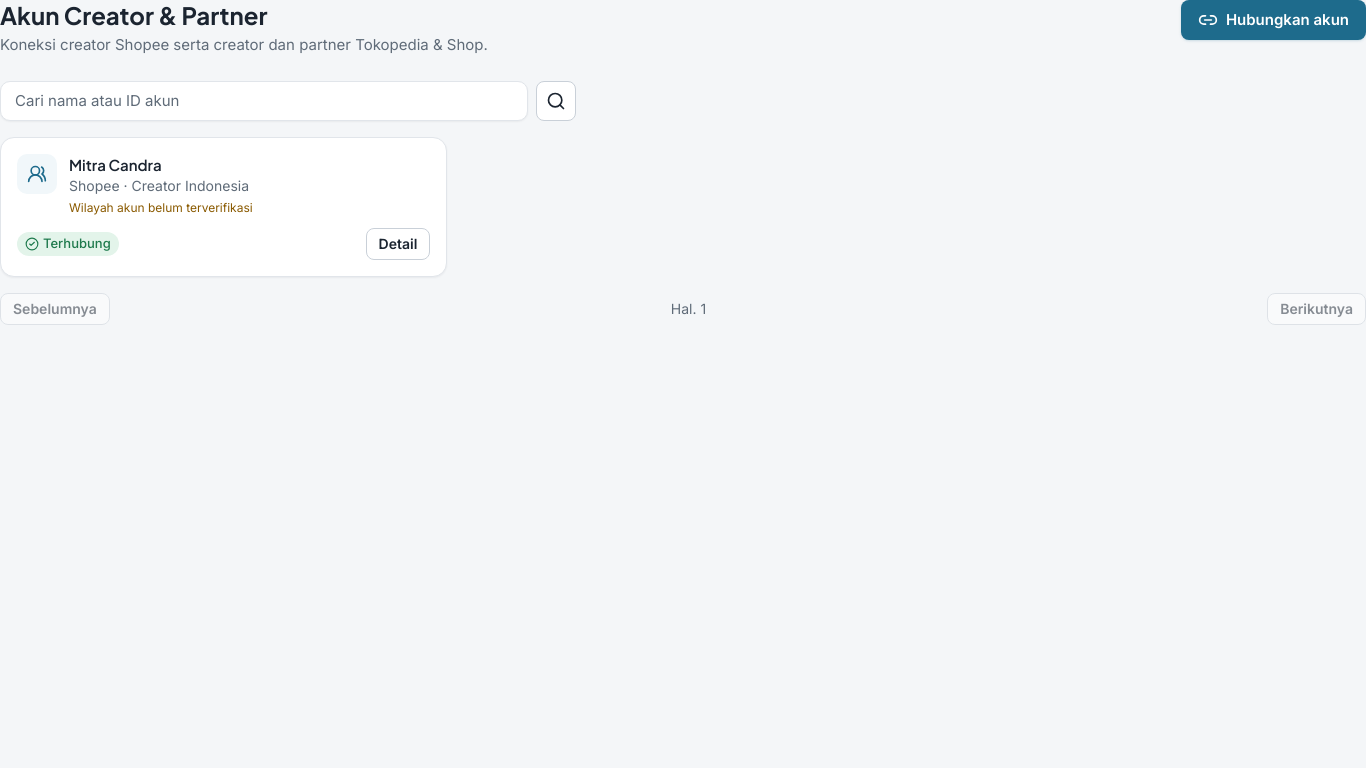
creator and partner account management › displays Shopee target country without claiming provider verification
Click the button with aria-label "Detail Mitra Candra": click(398, 244) [366,228,430,260]
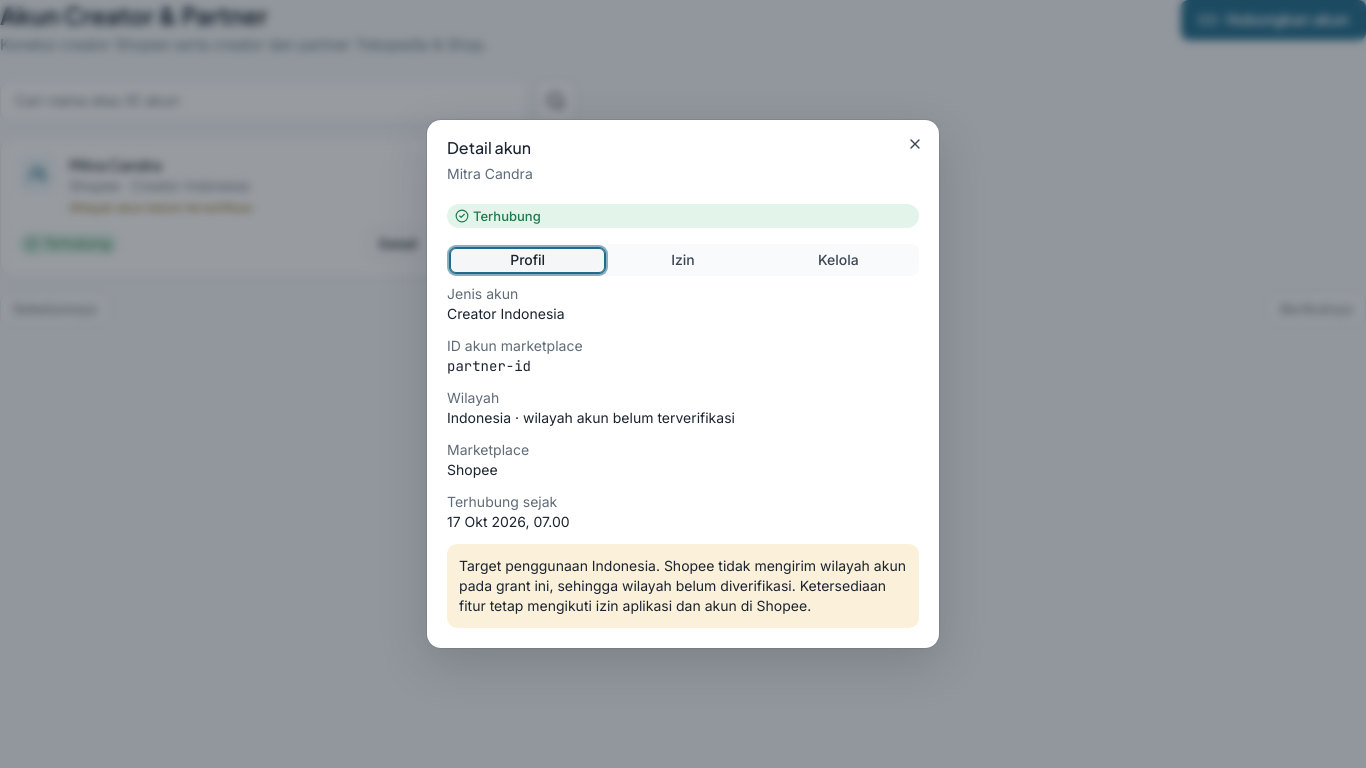
Expected: the text "Indonesia · wilayah akun belum terverifikasi" is shown, [447,409,735,426]
Click the tab "Izin": click(683, 260) [605,248,761,272]
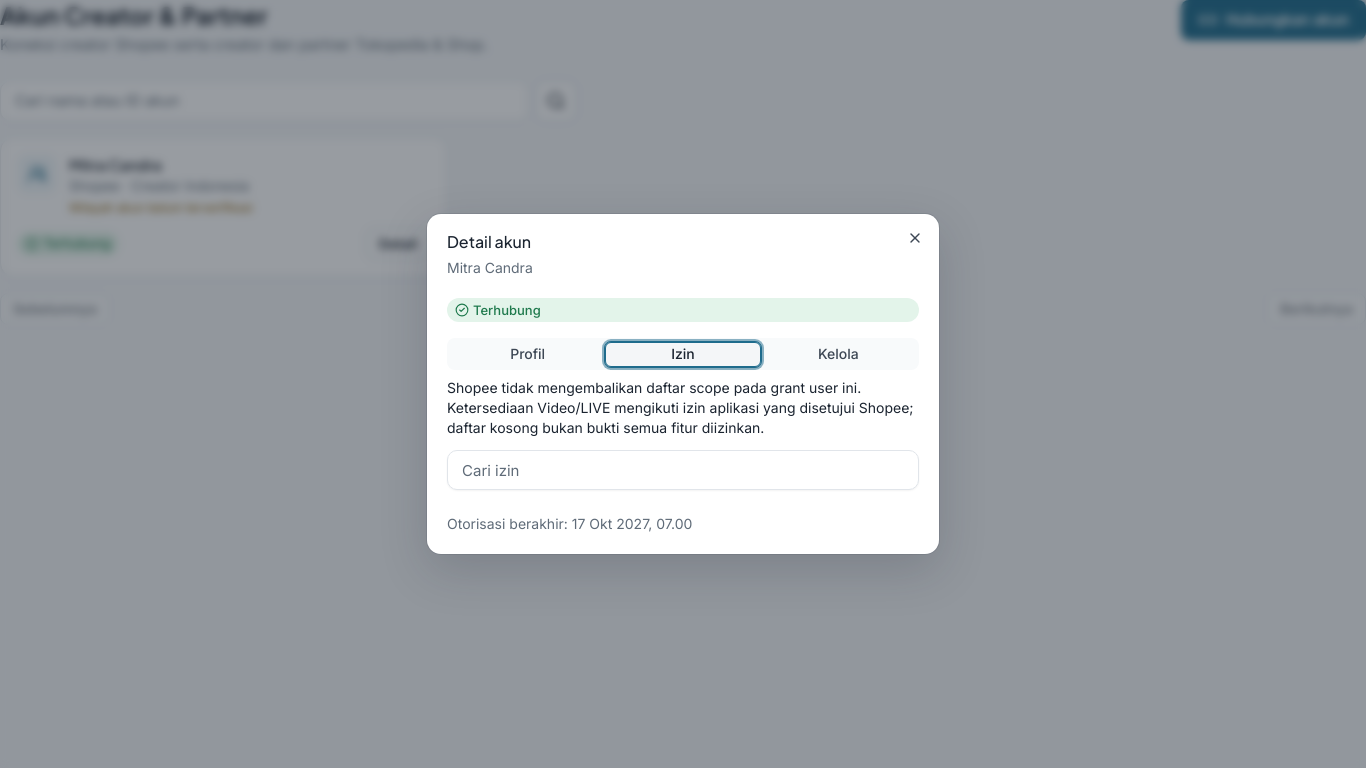
Expected: the text "Shopee tidak mengembalikan daftar scope" is shown, [447,379,914,436]
